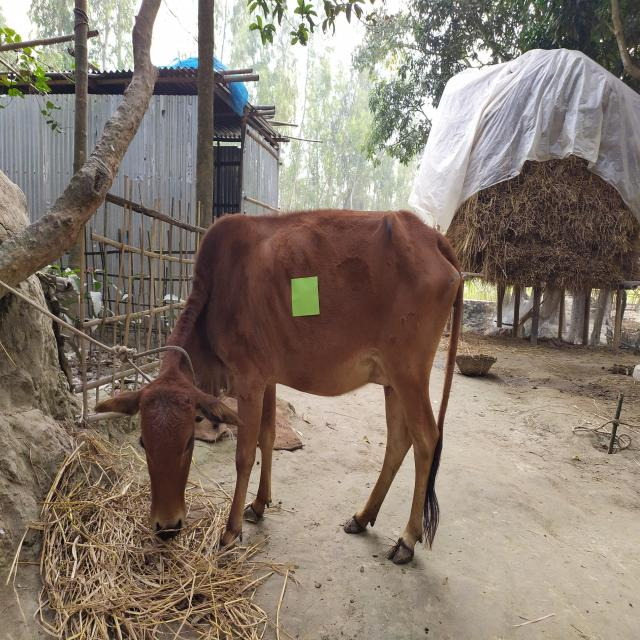badan_sapi: (224, 212, 459, 403)
sapi: (78, 193, 474, 575)
